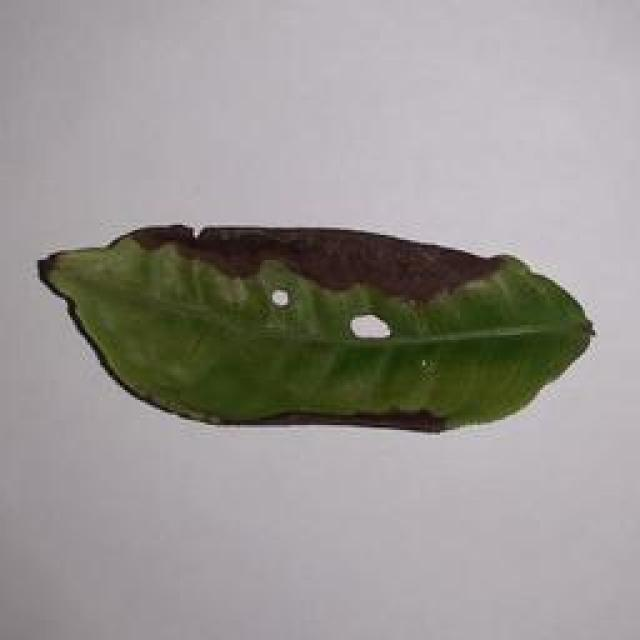Brown Blight: (29, 212, 598, 443)
